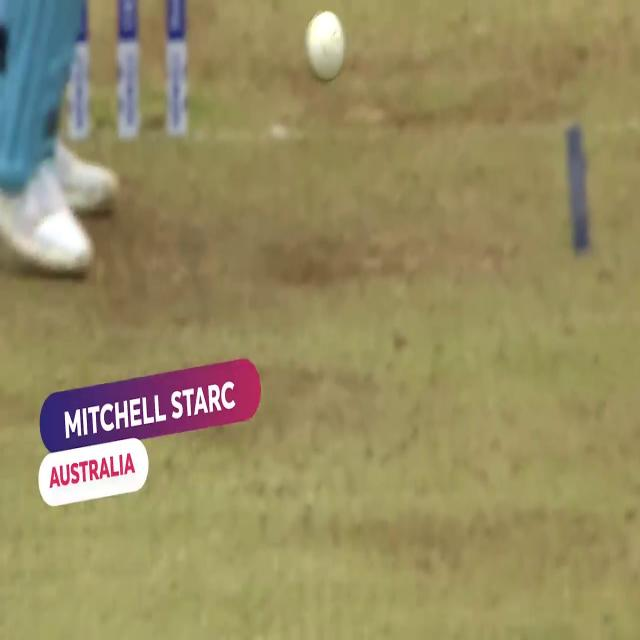ball: (306, 6, 348, 81)
